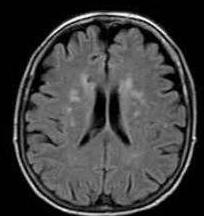Normal_Brain: (4, 1, 204, 216)
